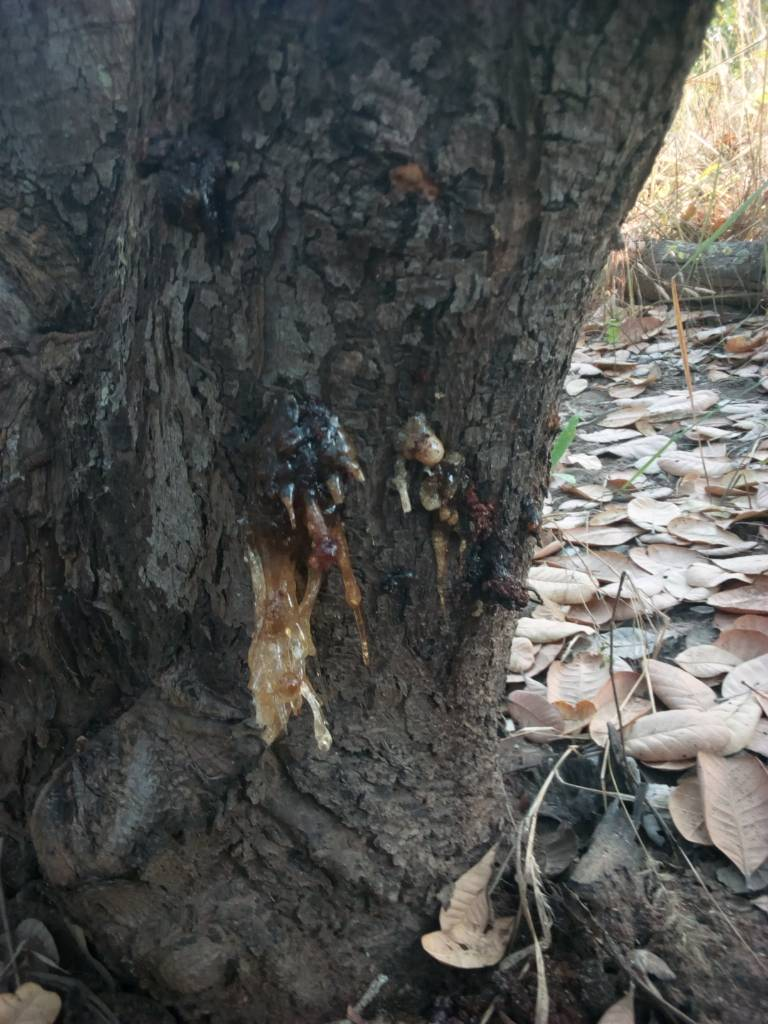Gommose: (236, 391, 490, 747)
